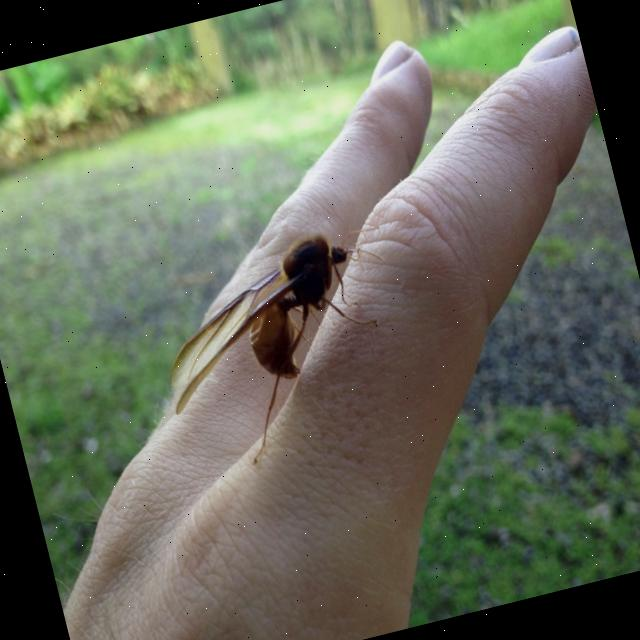Alive-Male-Alate: (141, 219, 428, 482)
